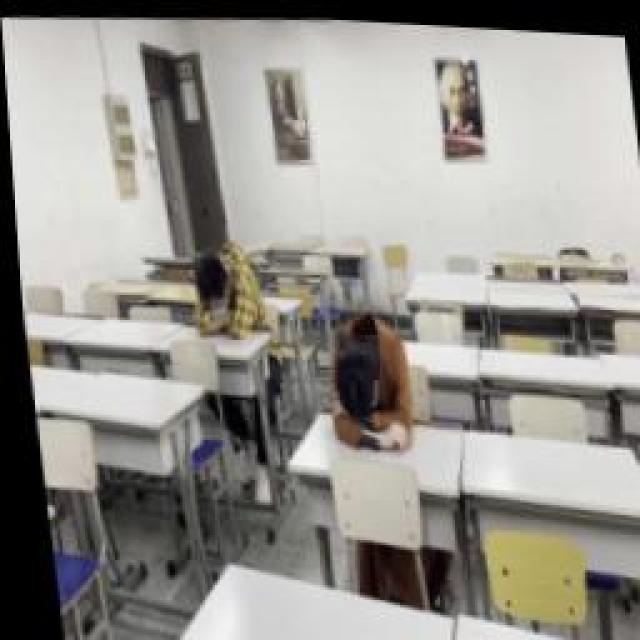sleep: (315, 302, 407, 452), (180, 238, 262, 338)
